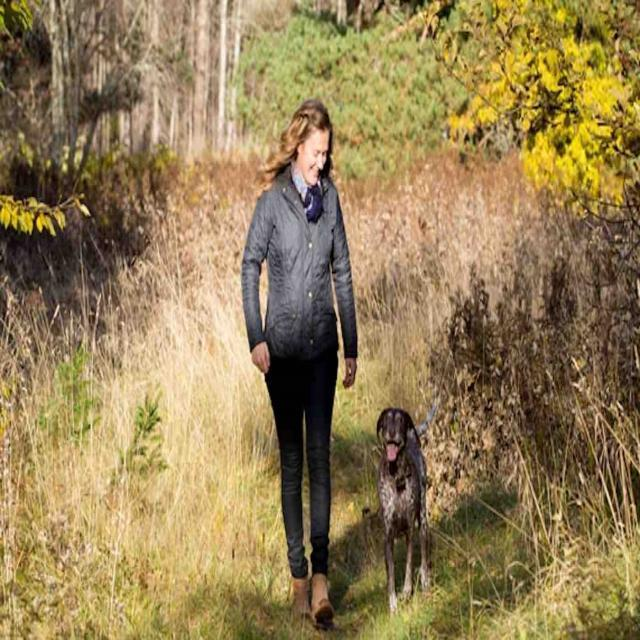walking: (231, 94, 367, 625), (374, 395, 450, 613)
